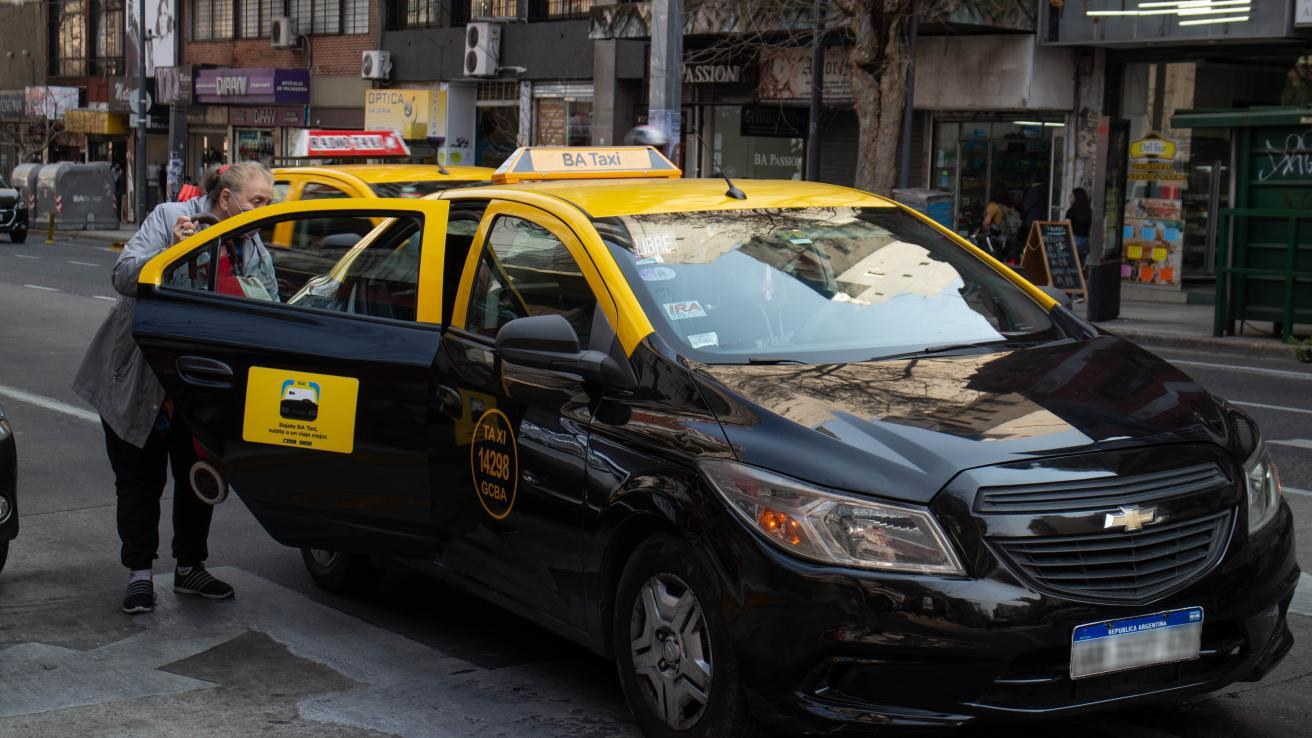taxi: (335, 145, 1311, 738)
